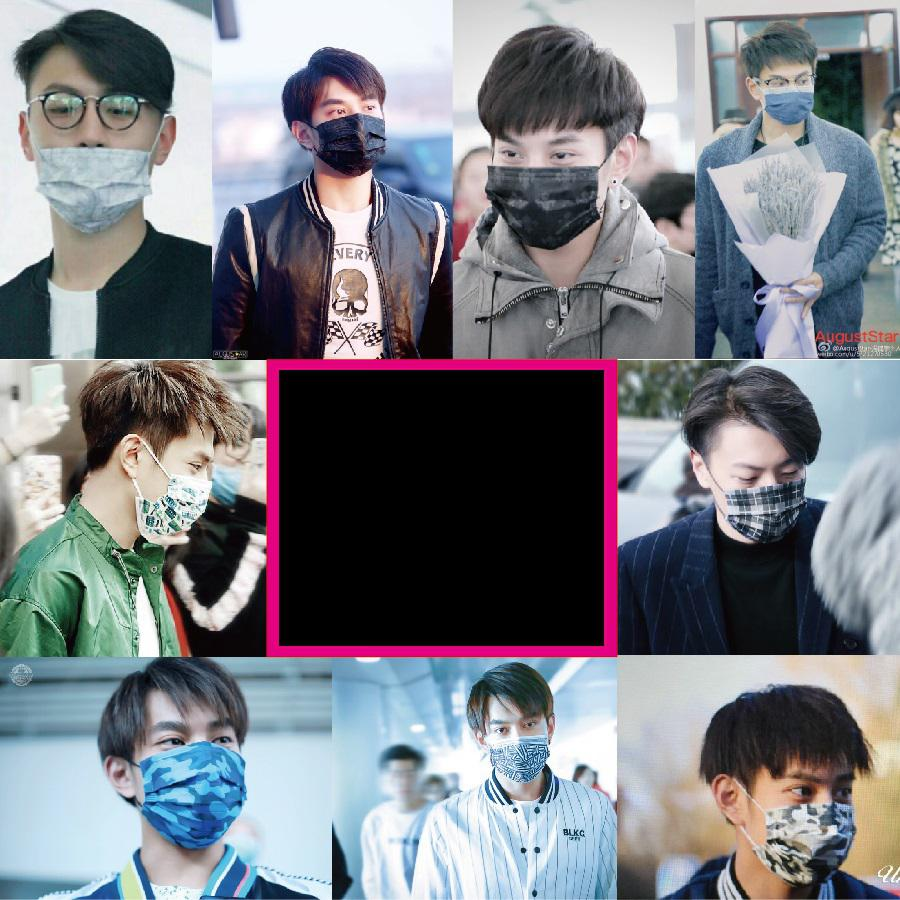OK: (129, 707, 272, 850), (748, 763, 870, 885), (488, 121, 609, 242), (127, 436, 233, 542), (706, 444, 806, 544), (308, 84, 397, 173), (479, 707, 552, 780), (761, 68, 818, 125)
WRONG: (22, 72, 170, 220), (213, 428, 272, 503)
